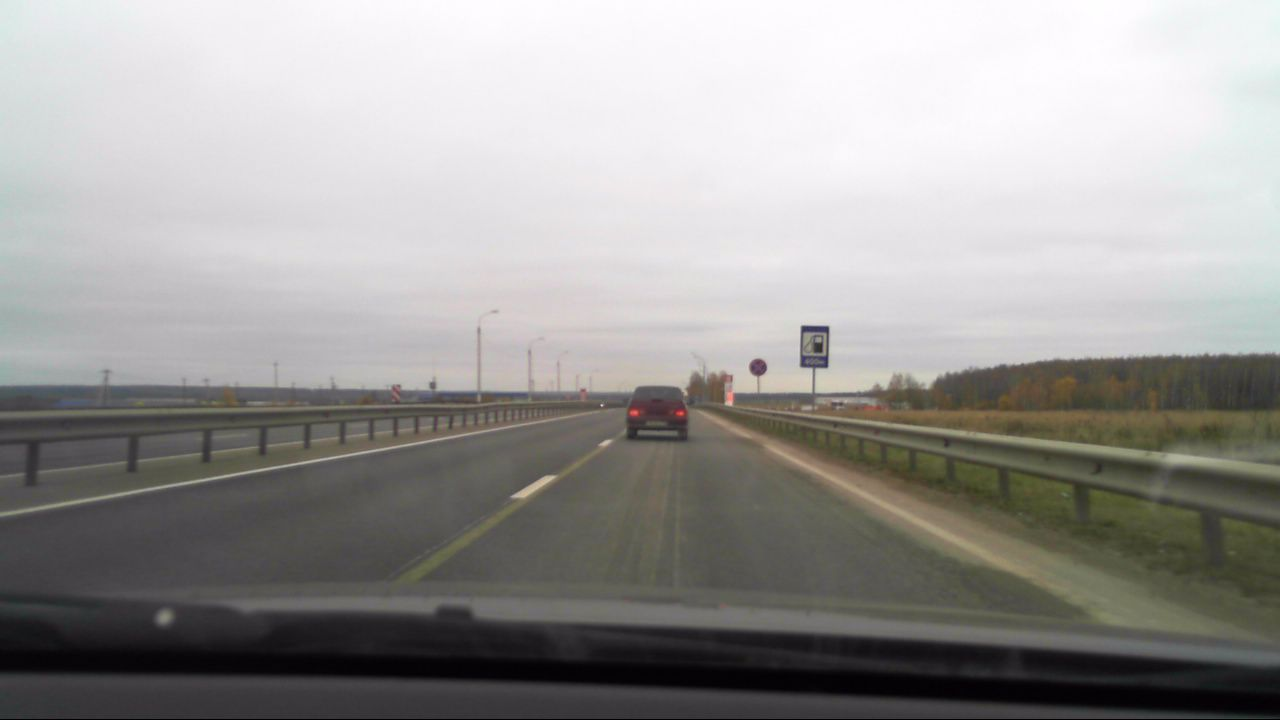No Parking: (749, 358, 768, 377)
